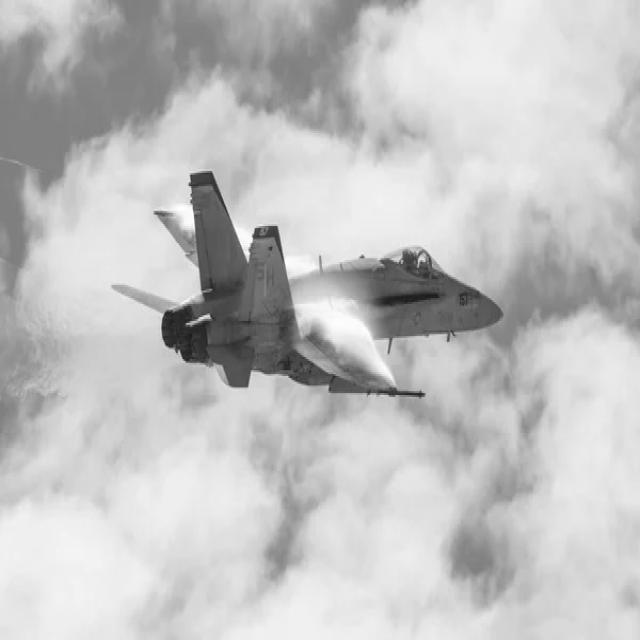Aircraft: (118, 155, 513, 416)
